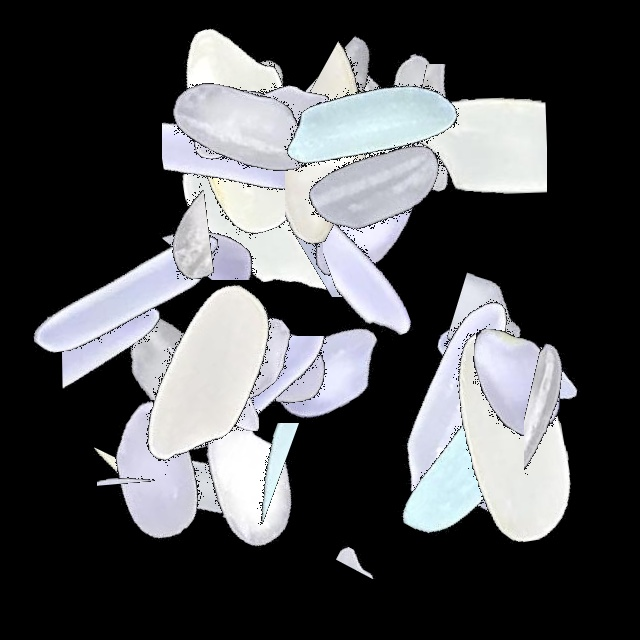Broken: (162, 26, 333, 276), (146, 336, 396, 504), (391, 23, 547, 273), (347, 363, 597, 516), (89, 363, 339, 515), (86, 347, 336, 497), (10, 280, 260, 427), (295, 4, 441, 254), (285, 30, 426, 280), (323, 115, 462, 365), (243, 168, 493, 297), (111, 152, 361, 280), (390, 262, 640, 386), (524, 302, 640, 552), (345, 64, 595, 171), (449, 245, 555, 495), (97, 303, 201, 553), (100, 423, 350, 525), (32, 179, 282, 280), (73, 388, 169, 638), (537, 311, 617, 561), (194, 99, 444, 178), (266, 506, 516, 584)
Full: (203, 247, 453, 497), (382, 237, 632, 487), (146, 101, 396, 351), (143, 240, 393, 490), (359, 320, 609, 570), (297, 0, 547, 250), (134, 92, 384, 342), (47, 248, 297, 498), (132, 2, 382, 252), (107, 246, 357, 496), (119, 0, 369, 250), (115, 0, 365, 250), (33, 349, 283, 599), (239, 97, 489, 347), (122, 356, 372, 606), (244, 0, 494, 250), (0, 171, 250, 421), (331, 275, 581, 525), (136, 0, 386, 250), (118, 0, 368, 250), (99, 246, 349, 496), (241, 0, 491, 250), (77, 249, 327, 499), (353, 325, 603, 575), (390, 308, 640, 558), (390, 259, 640, 509), (248, 56, 498, 306)
